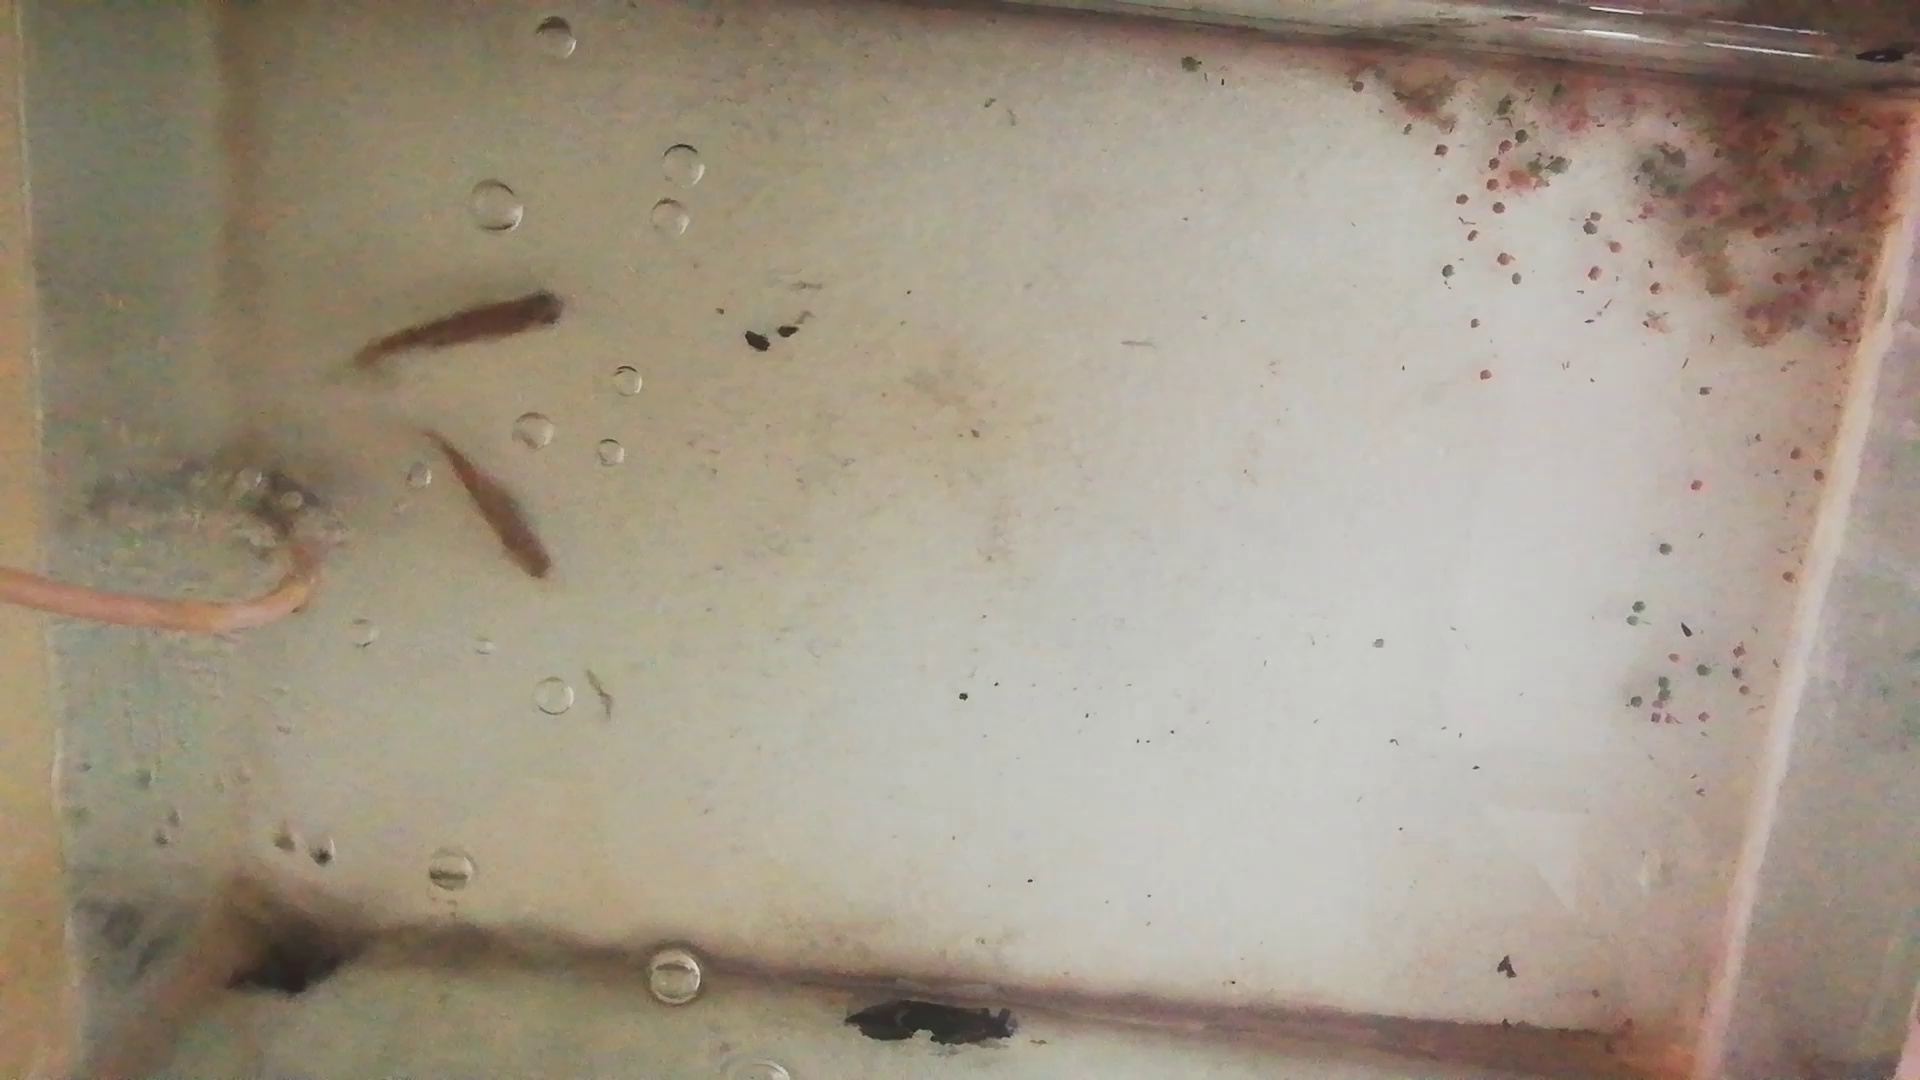fish: (426, 430, 554, 585), (345, 287, 564, 368)
